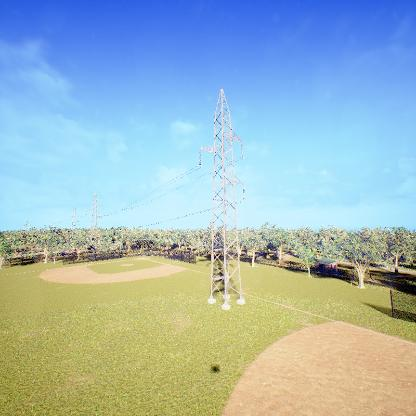tower: (195, 89, 249, 313)
